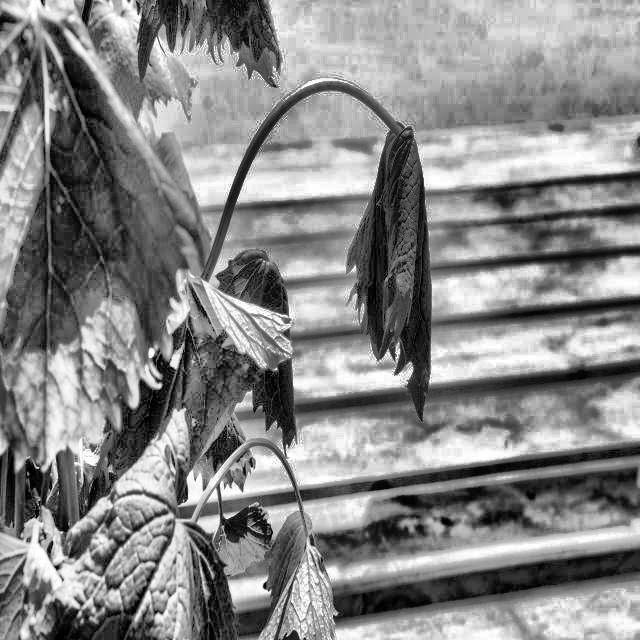plants: (1, 0, 457, 640), (193, 51, 454, 409)
